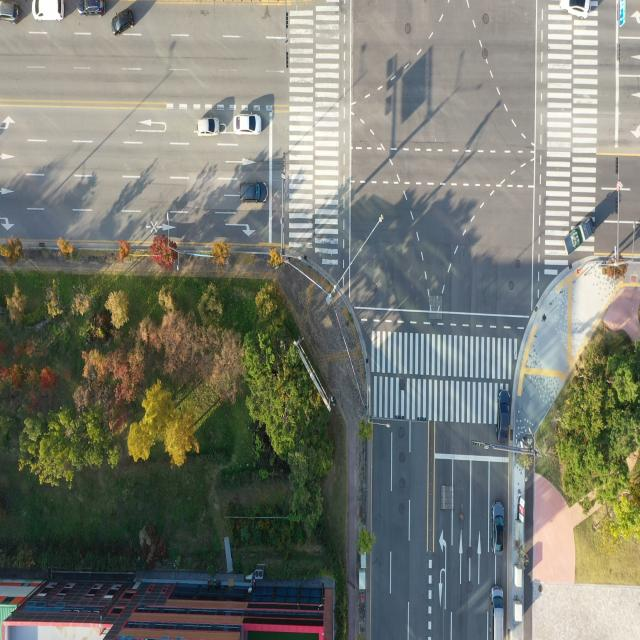car: (489, 587, 506, 640), (491, 499, 506, 555), (496, 388, 510, 444), (111, 1, 134, 35), (31, 0, 69, 20), (240, 181, 267, 204), (558, 0, 588, 20), (235, 113, 262, 134), (78, 0, 110, 17), (196, 117, 220, 138), (0, 0, 20, 25)
small_truck: (563, 215, 597, 261)
